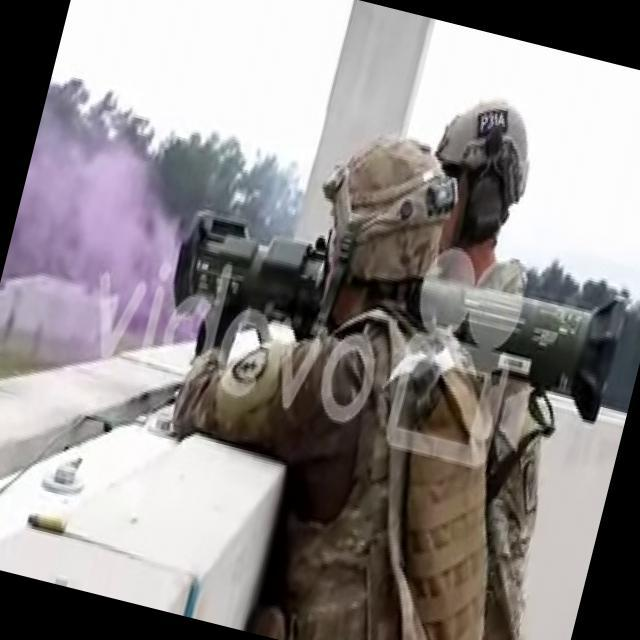rocket: (164, 186, 628, 423)
